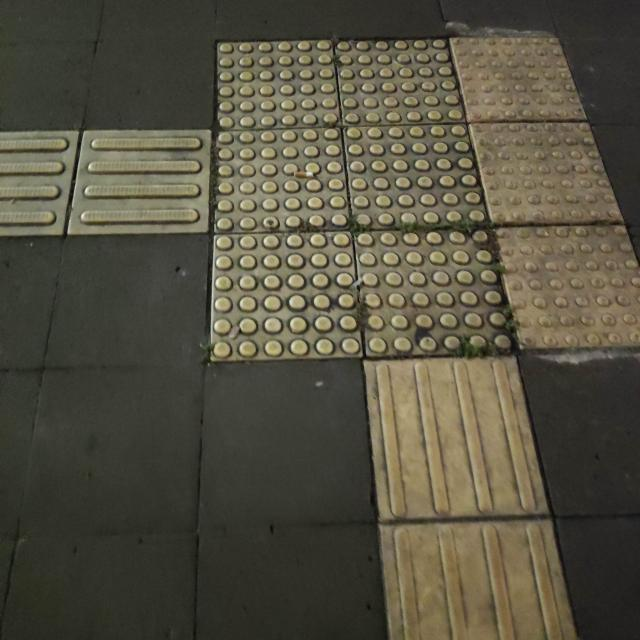kiri: (0, 128, 537, 483)
